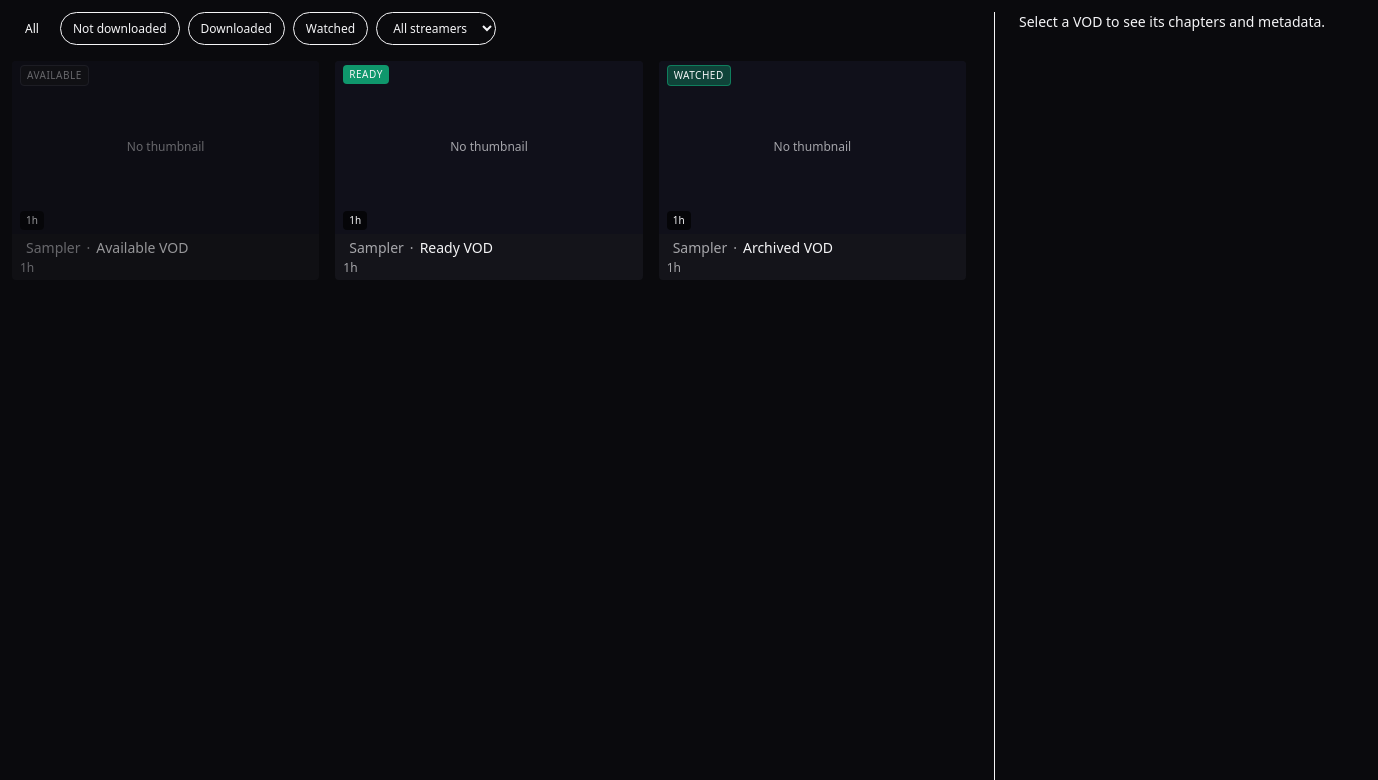
Test case: LibraryPage › lifecycle filter chips drive client-side filtering by vods.status
Expected: the text "Available VOD" is shown, x1=96 y1=238 x2=188 y2=258
Expected: the text "Ready VOD" is shown, x1=420 y1=238 x2=493 y2=258
# Click "Watched" — only the archived VOD should remain.
Click the button "Watched".
click(330, 28)  # box x1=293 y1=12 x2=368 y2=45
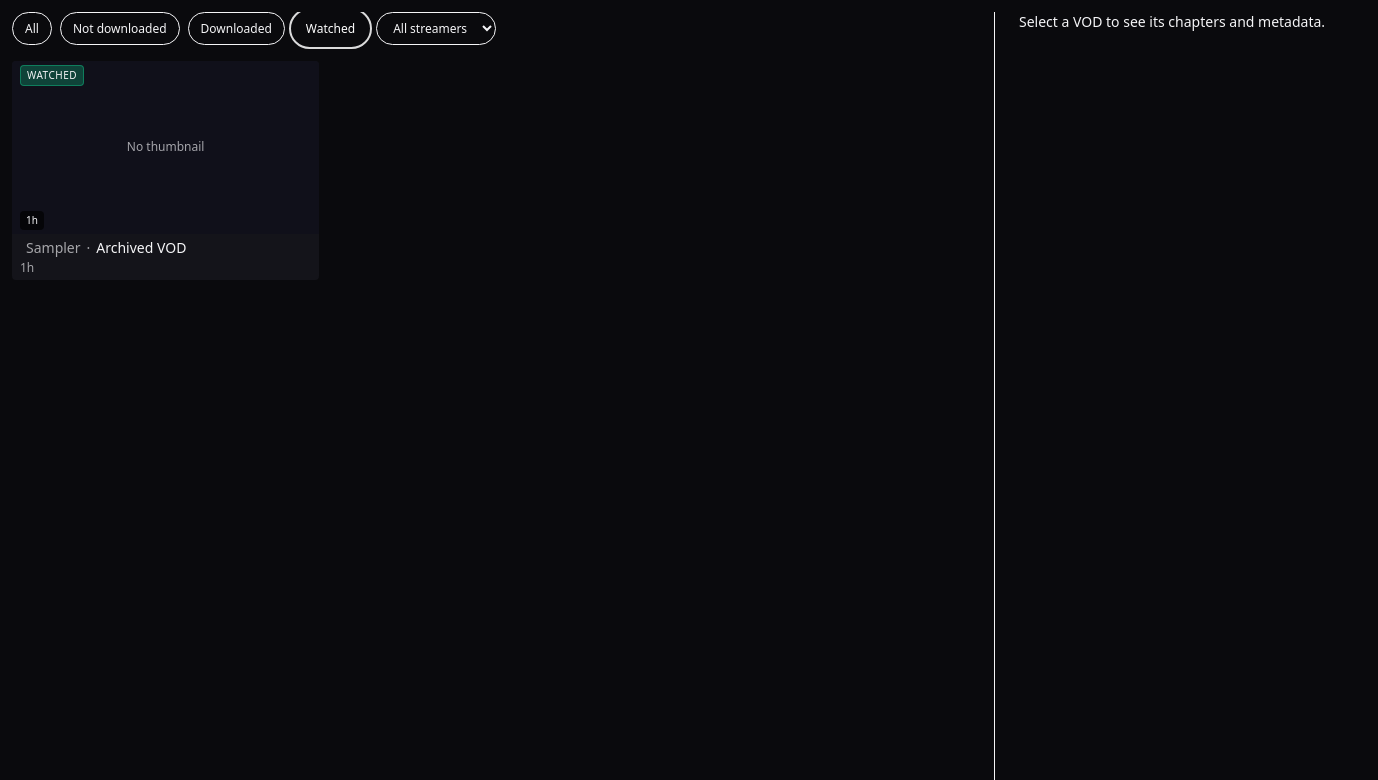
Expected: the text "Archived VOD" is shown, x1=96 y1=238 x2=186 y2=258
Expected: the button "Available VOD" is gone
Expected: the button "Ready VOD" is gone
